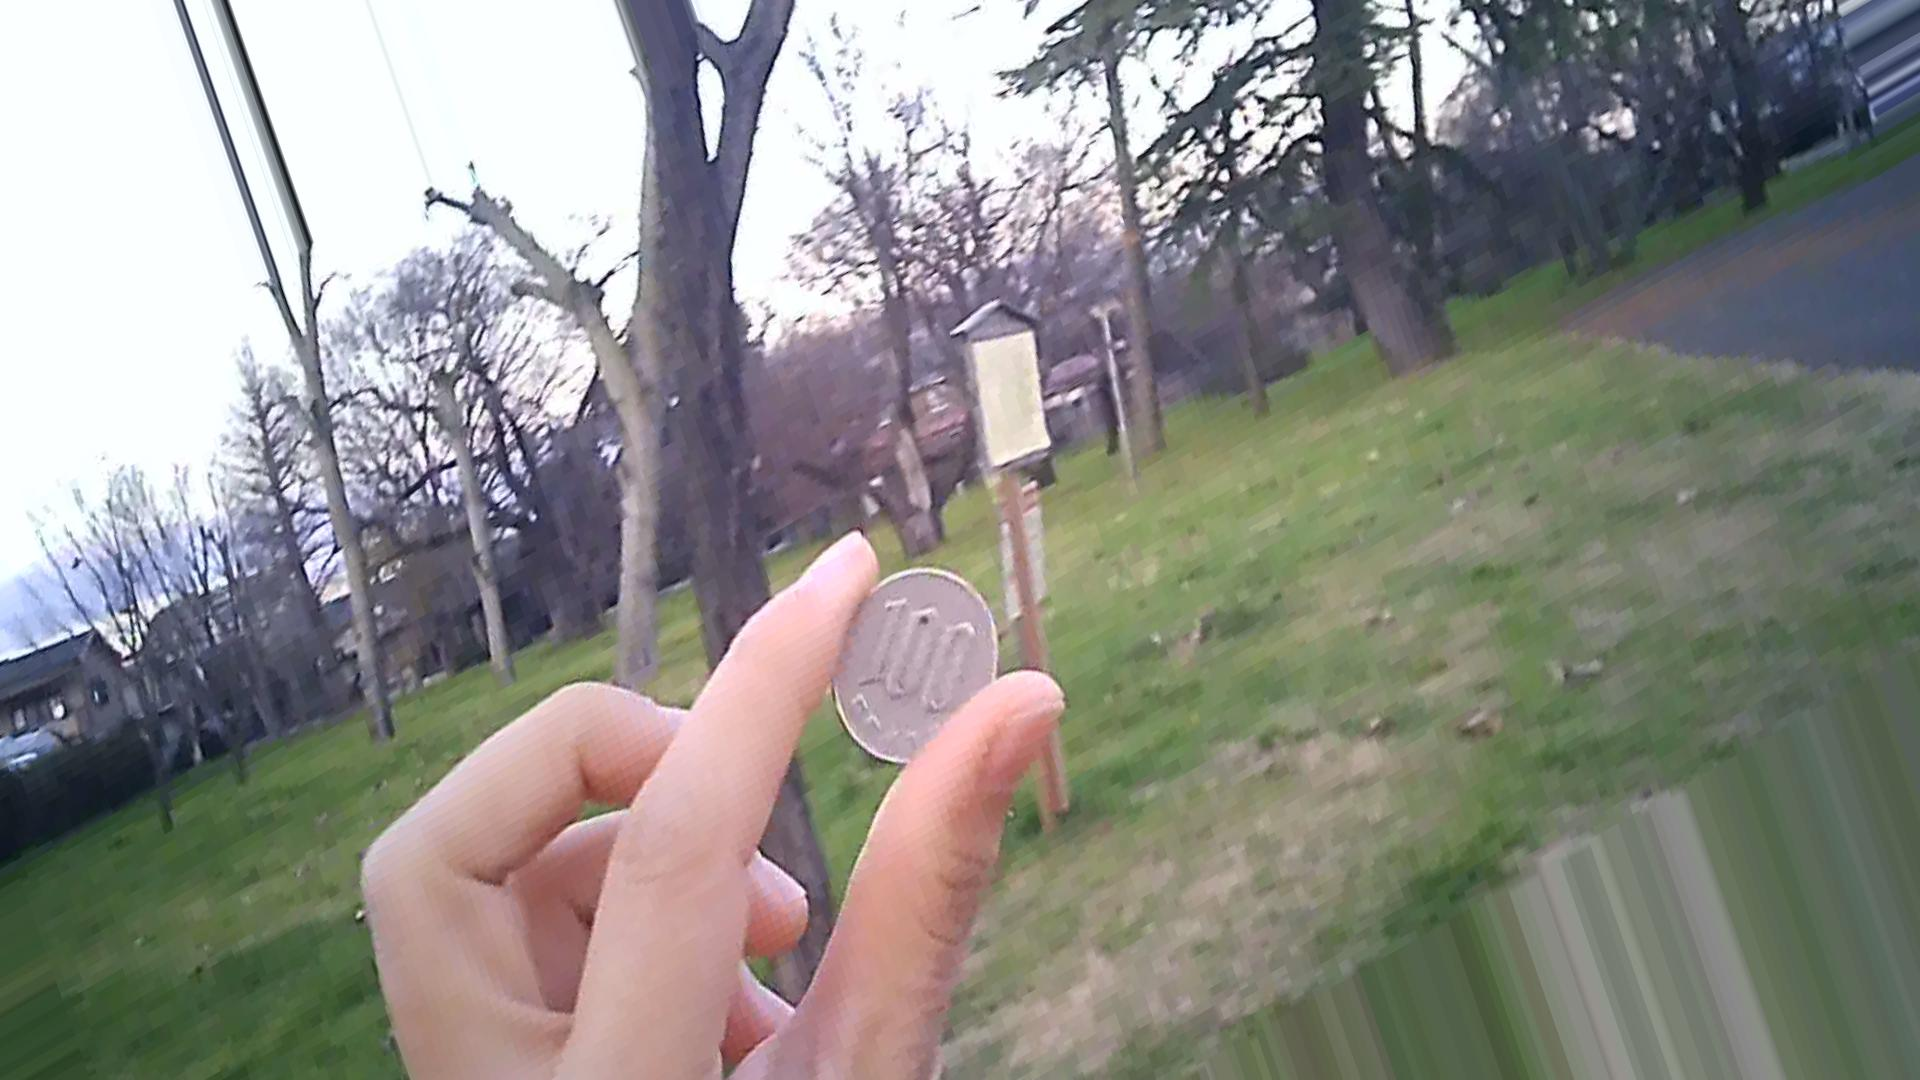100 Yen: (823, 560, 996, 756)
